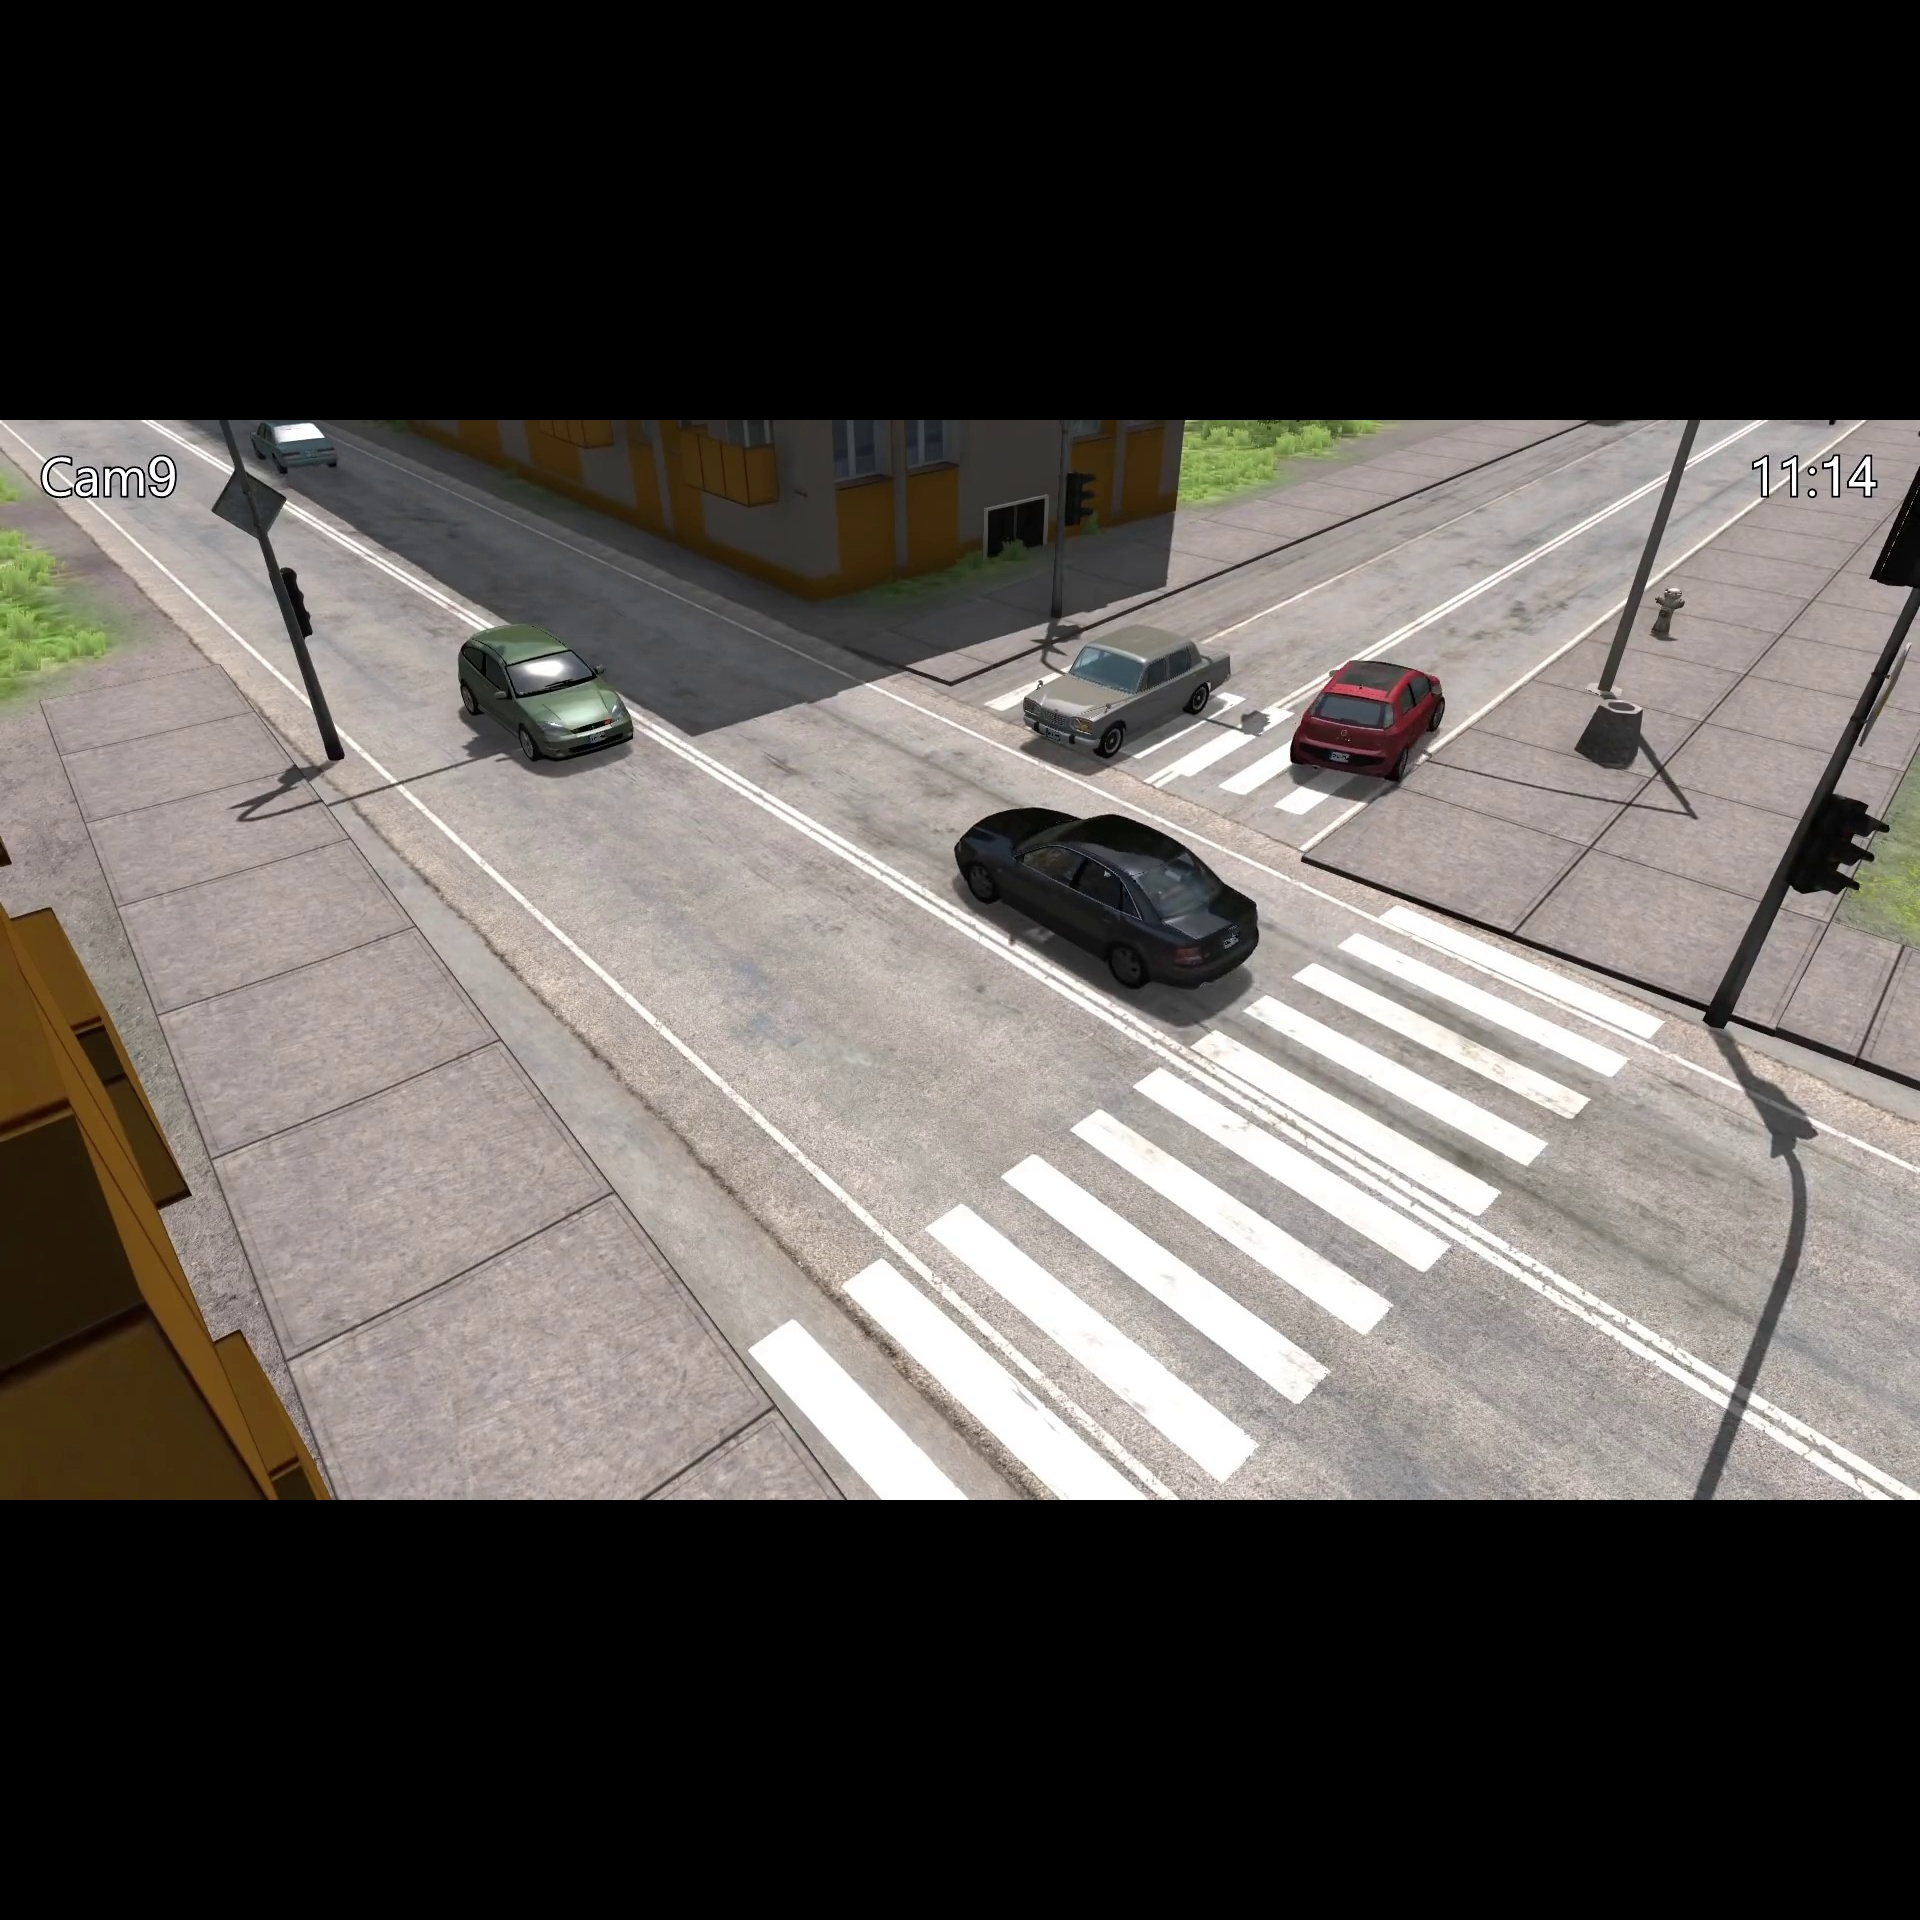vehicle: (944, 795, 1269, 1011), (1020, 619, 1234, 767), (448, 614, 642, 777), (1289, 654, 1458, 795), (244, 418, 343, 476)
